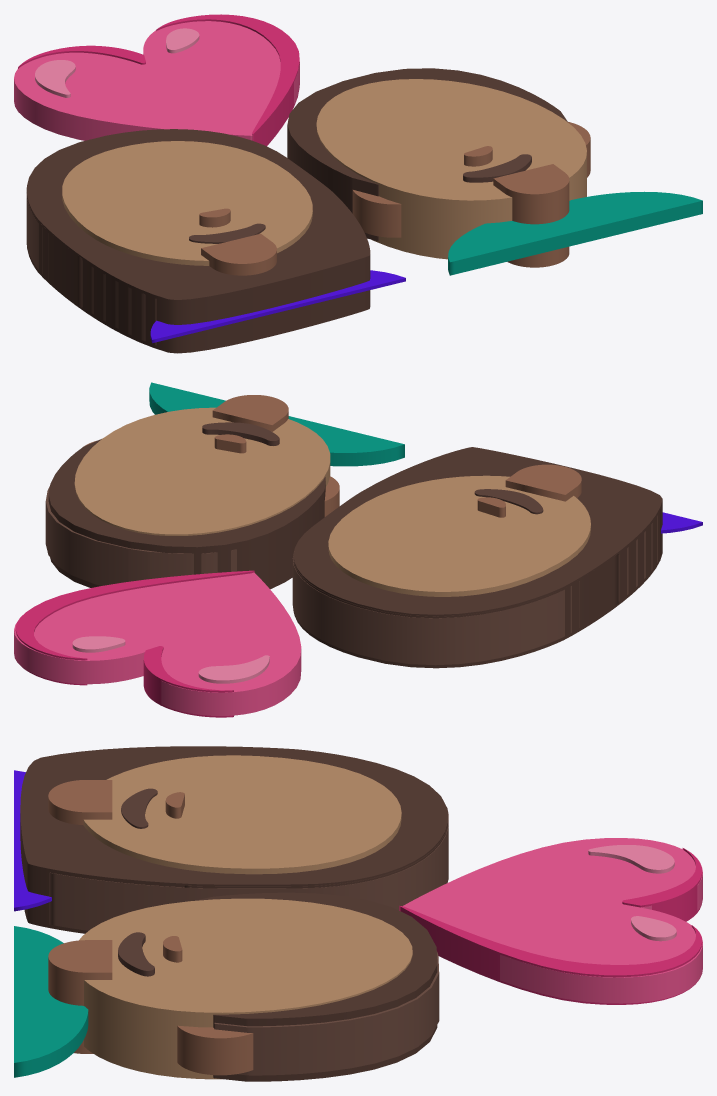
File: emoji_u1f469_1f3fd_200d_2764_200d_1f468_1f3fd.glb
3 views of the same model, one above another, from view 1: azimuth 30°, elevation 25°; view 2: azimuth 150°, elevation 25°; view 3: azimuth 270°, elevation 25° (orthographic). The views are drawn at different scales.
Parts seen in each view (by area): view 1: emoji_u1f469_1f3fd_200d_2764_200d_1f468_1f3fd; view 2: emoji_u1f469_1f3fd_200d_2764_200d_1f468_1f3fd; view 3: emoji_u1f469_1f3fd_200d_2764_200d_1f468_1f3fd.
Boxes of the visible parts, bbox=[...] form: emoji_u1f469_1f3fd_200d_2764_200d_1f468_1f3fd: bbox=[14, 14, 702, 353]; emoji_u1f469_1f3fd_200d_2764_200d_1f468_1f3fd: bbox=[14, 382, 702, 717]; emoji_u1f469_1f3fd_200d_2764_200d_1f468_1f3fd: bbox=[14, 746, 702, 1081].
Size of the model in its own units: 0.0346 by 0.005 by 0.0337.
